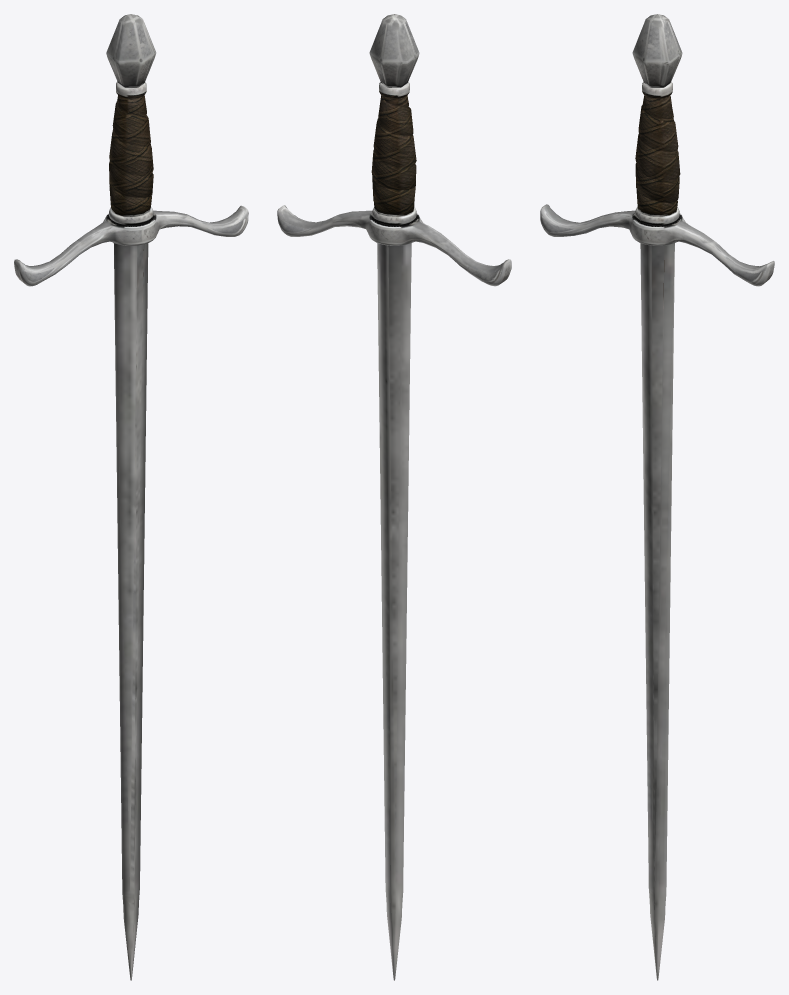
The model's file is slim+sword+3d+model.glb.
The picture shows the model from 3 angles, left to right: view 1: azimuth 30°, elevation 25°; view 2: azimuth 150°, elevation 25°; view 3: azimuth 330°, elevation 25°; orthographic projection.
Parts seen in each view (by area): view 1: tripo_node_d4caf810-0d3b-4b6a-8880-1febe340f406; view 2: tripo_node_d4caf810-0d3b-4b6a-8880-1febe340f406; view 3: tripo_node_d4caf810-0d3b-4b6a-8880-1febe340f406.
Boxes of the visible parts, left/top/right/bottom form: tripo_node_d4caf810-0d3b-4b6a-8880-1febe340f406: left=14, top=14, right=248, bottom=980; tripo_node_d4caf810-0d3b-4b6a-8880-1febe340f406: left=277, top=14, right=511, bottom=980; tripo_node_d4caf810-0d3b-4b6a-8880-1febe340f406: left=540, top=14, right=774, bottom=980.
Size of the model in its own units: 0.2476 by 0.9995 by 0.0493.
Materials: 1 (1 with a texture image).
